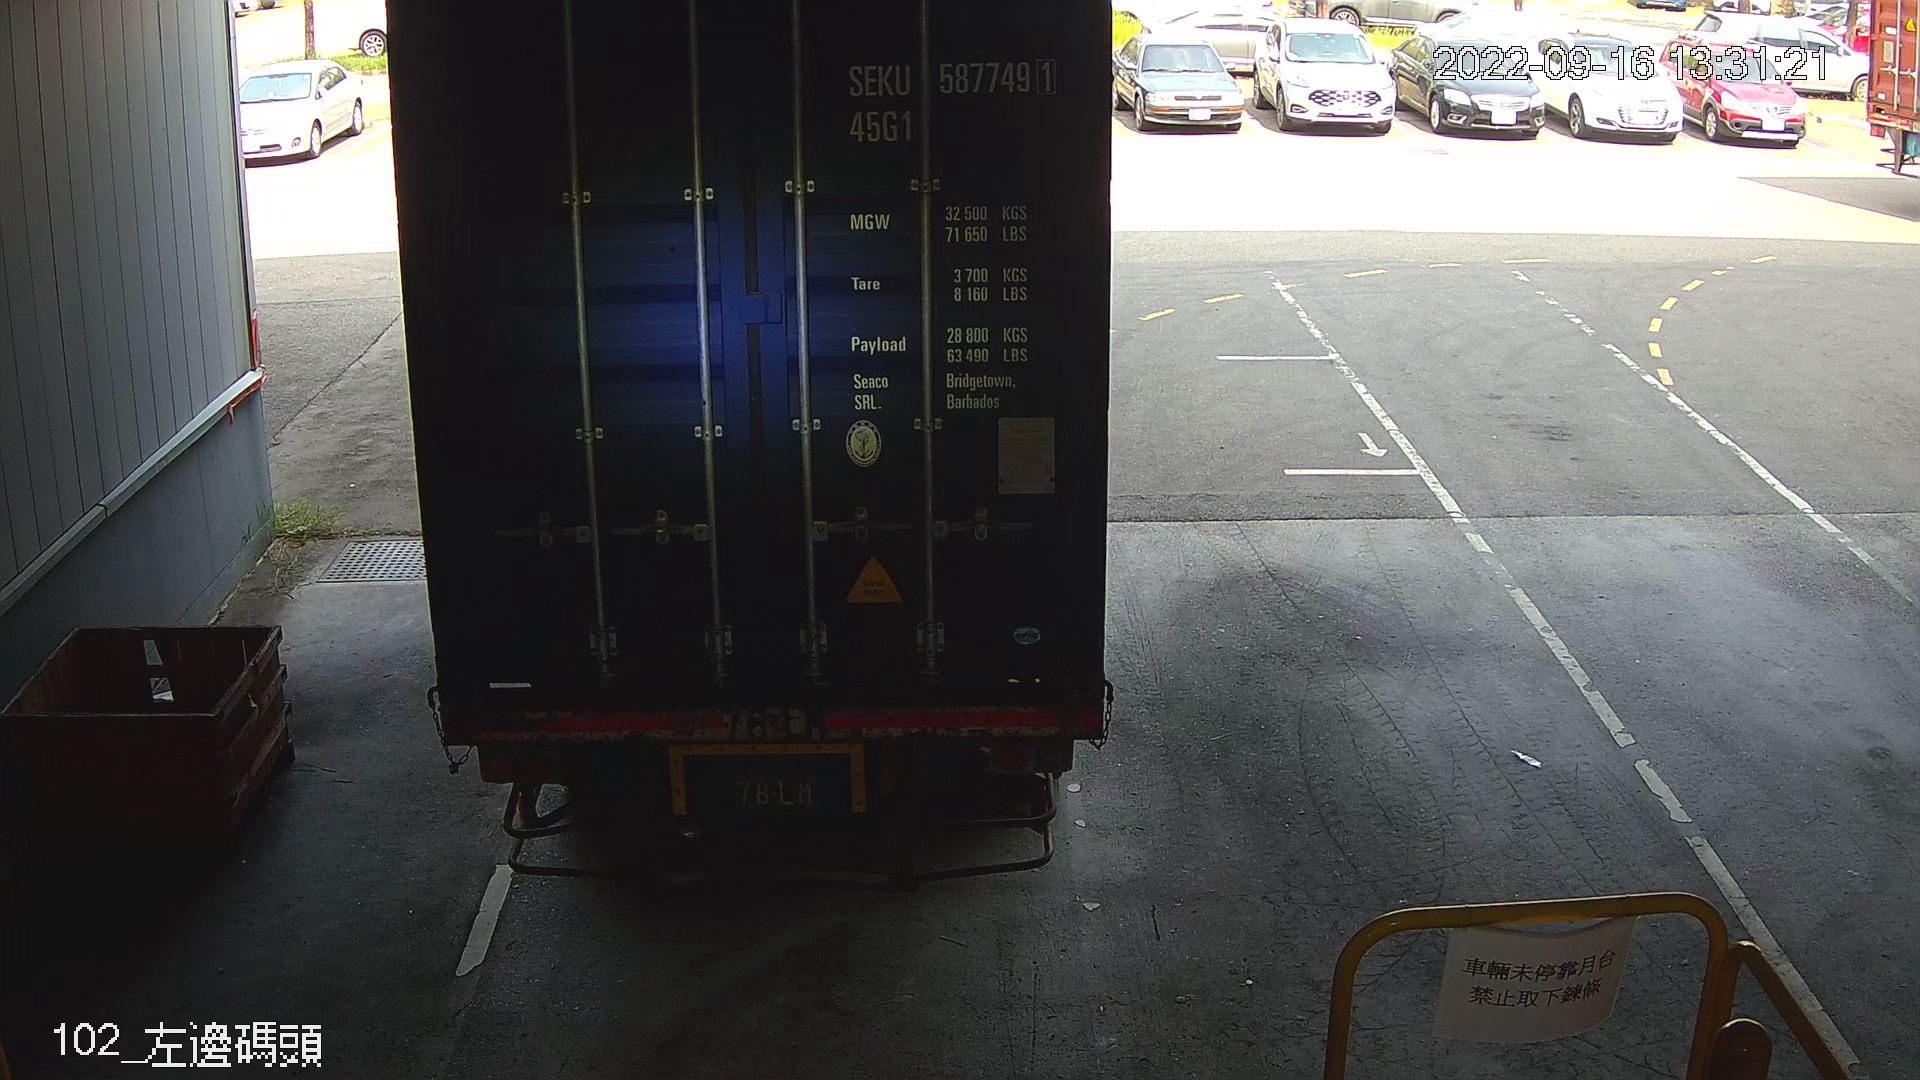container: (837, 51, 1062, 154)
